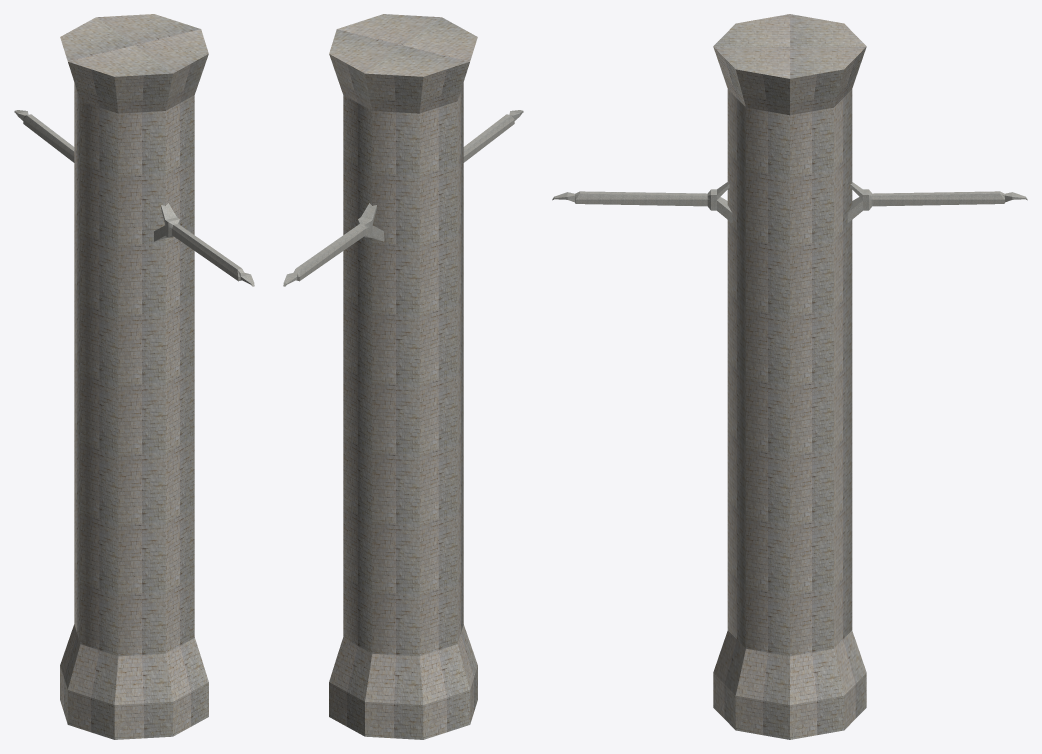
3 renders of one model, left to right at view 1: azimuth 30°, elevation 25°; view 2: azimuth 150°, elevation 25°; view 3: azimuth 270°, elevation 25°, orthographic.
Parts seen in each view (by area): view 1: TexturesCom_BrickMessy0175_2_M, TexturesCom_MetalScratches0021_M; view 2: TexturesCom_BrickMessy0175_2_M, TexturesCom_MetalScratches0021_M; view 3: TexturesCom_BrickMessy0175_2_M, TexturesCom_MetalScratches0021_M.
Boxes of the visible parts, x1,y1,x2,y2 form: TexturesCom_BrickMessy0175_2_M: (60, 14, 208, 739); TexturesCom_MetalScratches0021_M: (14, 110, 254, 286); TexturesCom_BrickMessy0175_2_M: (329, 14, 477, 739); TexturesCom_MetalScratches0021_M: (283, 110, 523, 286); TexturesCom_BrickMessy0175_2_M: (713, 14, 866, 739); TexturesCom_MetalScratches0021_M: (552, 182, 1027, 222).
Bounding box in the file's own units: 2 × 9.5 × 6.19.
2 materials, 2 textured.
